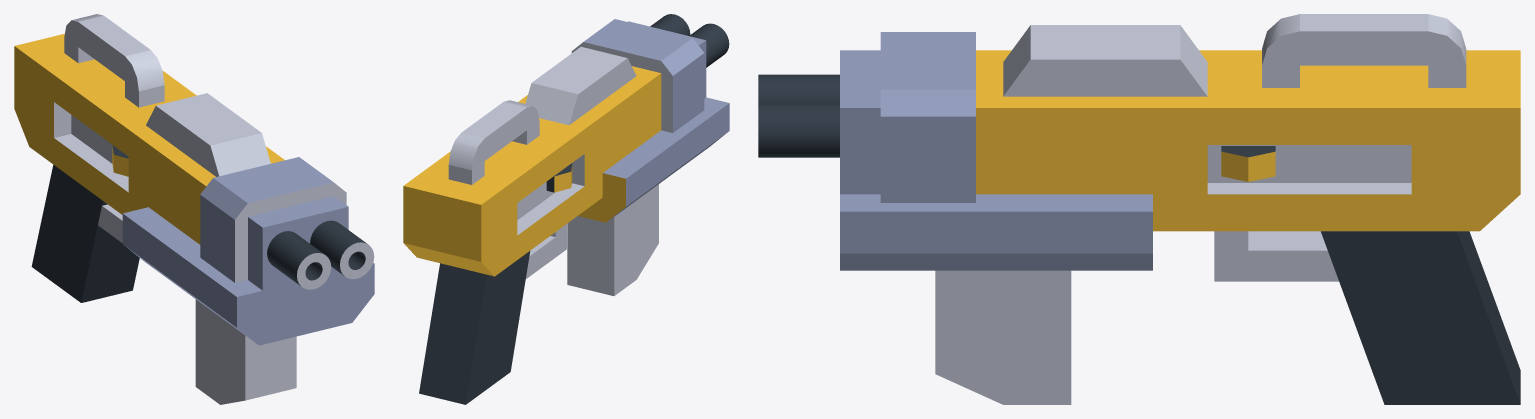
File: blasterJ.glb
3 renders of one model, left to right at view 1: azimuth 30°, elevation 25°; view 2: azimuth 150°, elevation 25°; view 3: azimuth 270°, elevation 25°, orthographic. The views are drawn at different scales.
Visible parts, largest first — view 1: blasterJ; view 2: blasterJ; view 3: blasterJ.
Part boxes in pixels (x1,y1,x2,y2): blasterJ: (14, 14, 374, 404); blasterJ: (403, 14, 729, 404); blasterJ: (758, 14, 1520, 404).
Size of the model in its own units: 0.16 by 0.2959 by 0.56.
